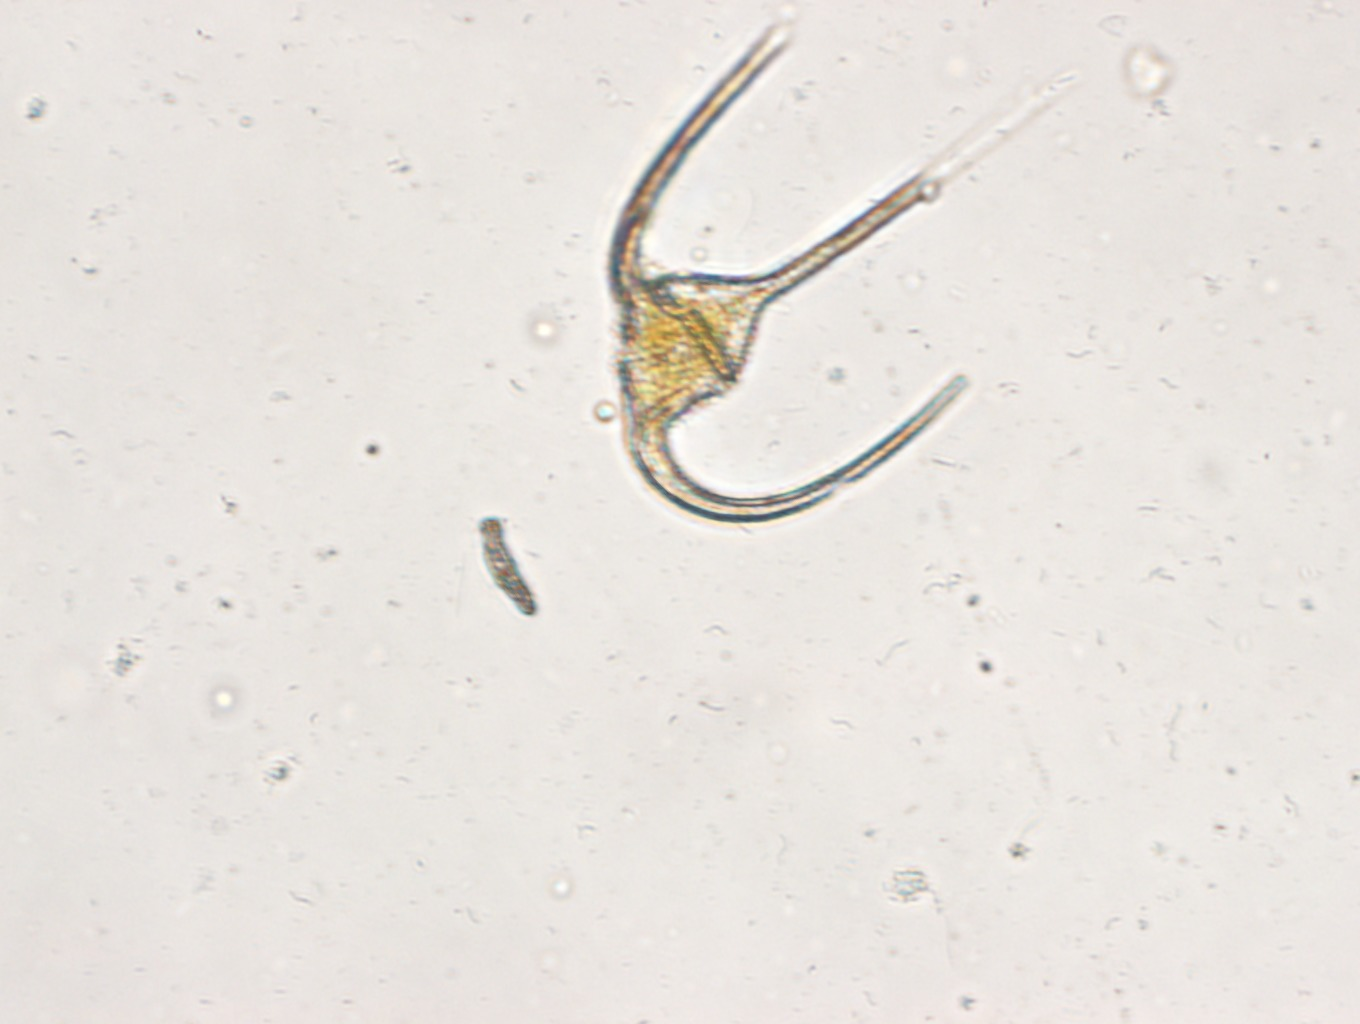ceratium trichoceros: (597, 8, 1059, 539)
